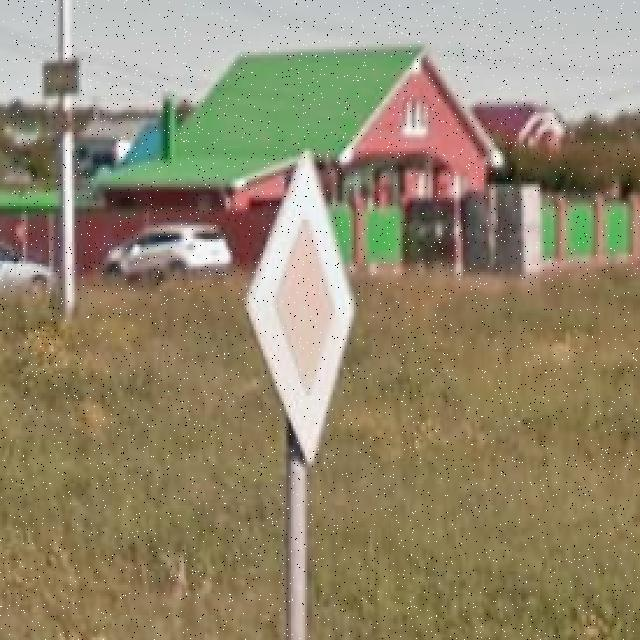Droga z pierwszenstwem: (244, 146, 358, 470)
